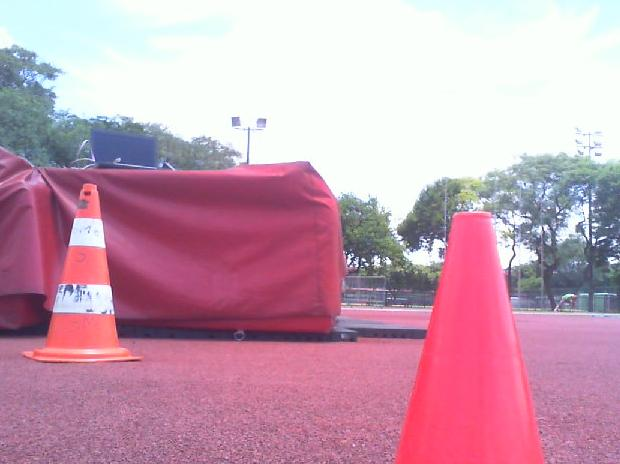0 cone: (389, 213, 547, 464), (21, 184, 143, 364)
